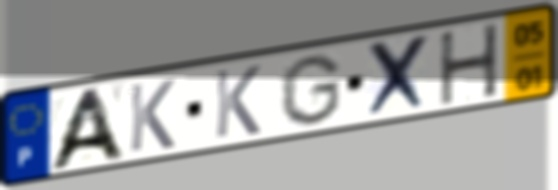A: (42, 83, 130, 174)
G: (277, 52, 344, 128)
H: (436, 20, 502, 109)
K: (126, 76, 178, 155), (212, 62, 263, 141)
X: (363, 30, 433, 122)
